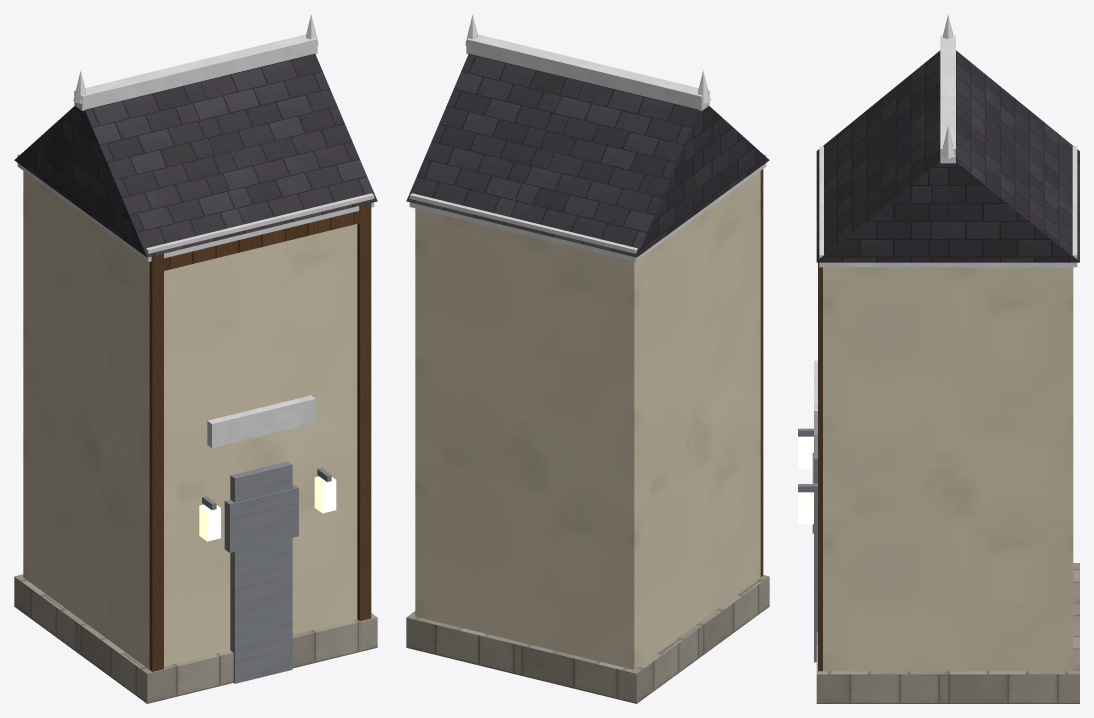
File: category.lending.t5.glb
3 renders of one model, left to right at view 1: azimuth 30°, elevation 25°; view 2: azimuth 150°, elevation 25°; view 3: azimuth 270°, elevation 25°, orthographic.
Visible parts, largest first — view 1: building.category.lending.t5; view 2: building.category.lending.t5; view 3: building.category.lending.t5.
Boxes of the visible parts, x1,y1,x2,y2 form: building.category.lending.t5: (14,14,377,703); building.category.lending.t5: (406,14,769,703); building.category.lending.t5: (798,14,1079,703).
Size of the model in its own units: 2.12 by 4.85 by 2.14.
8 materials, 7 textured.
